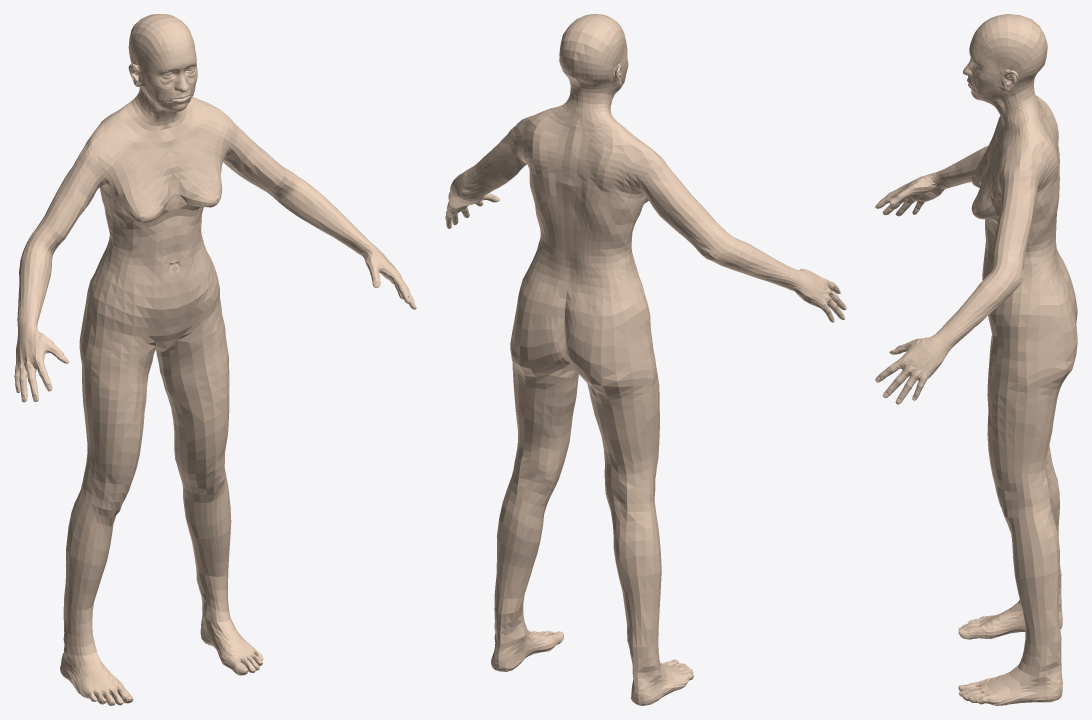
Rendered from female-elder-average-strong.glb.
3 views of the same model, side by side, from view 1: azimuth 30°, elevation 25°; view 2: azimuth 150°, elevation 25°; view 3: azimuth 270°, elevation 25° (orthographic).
Visible parts, largest first — view 1: world; view 2: world; view 3: world.
Part boxes in pixels (x1,y1,x2,y2): world: (14,14,416,705); world: (445,14,846,705); world: (875,14,1077,705).
Size of the model in its own units: 1.13 by 1.8 by 0.5091.
